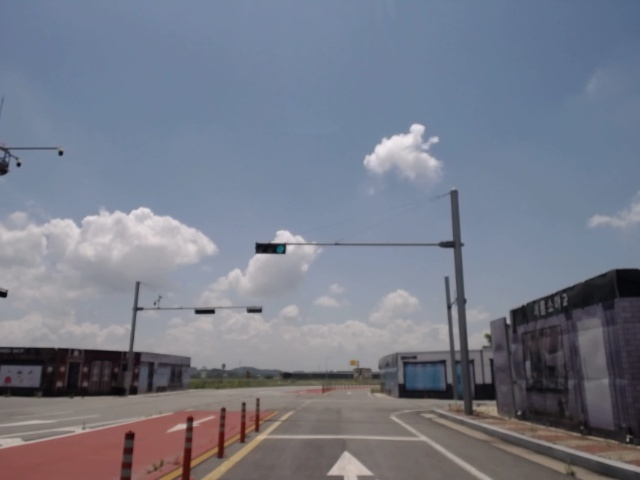green_3: (257, 244, 285, 253)
